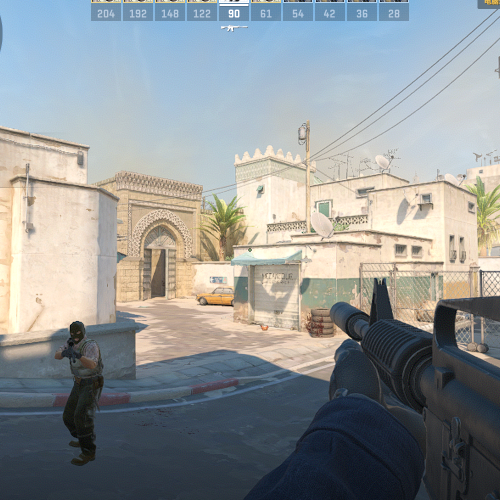chicken: (260, 323, 270, 333)
t_body: (55, 320, 105, 467)
t_head: (68, 320, 87, 342)
